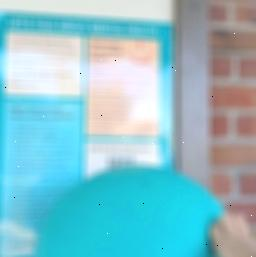algae: (30, 166, 243, 257)
